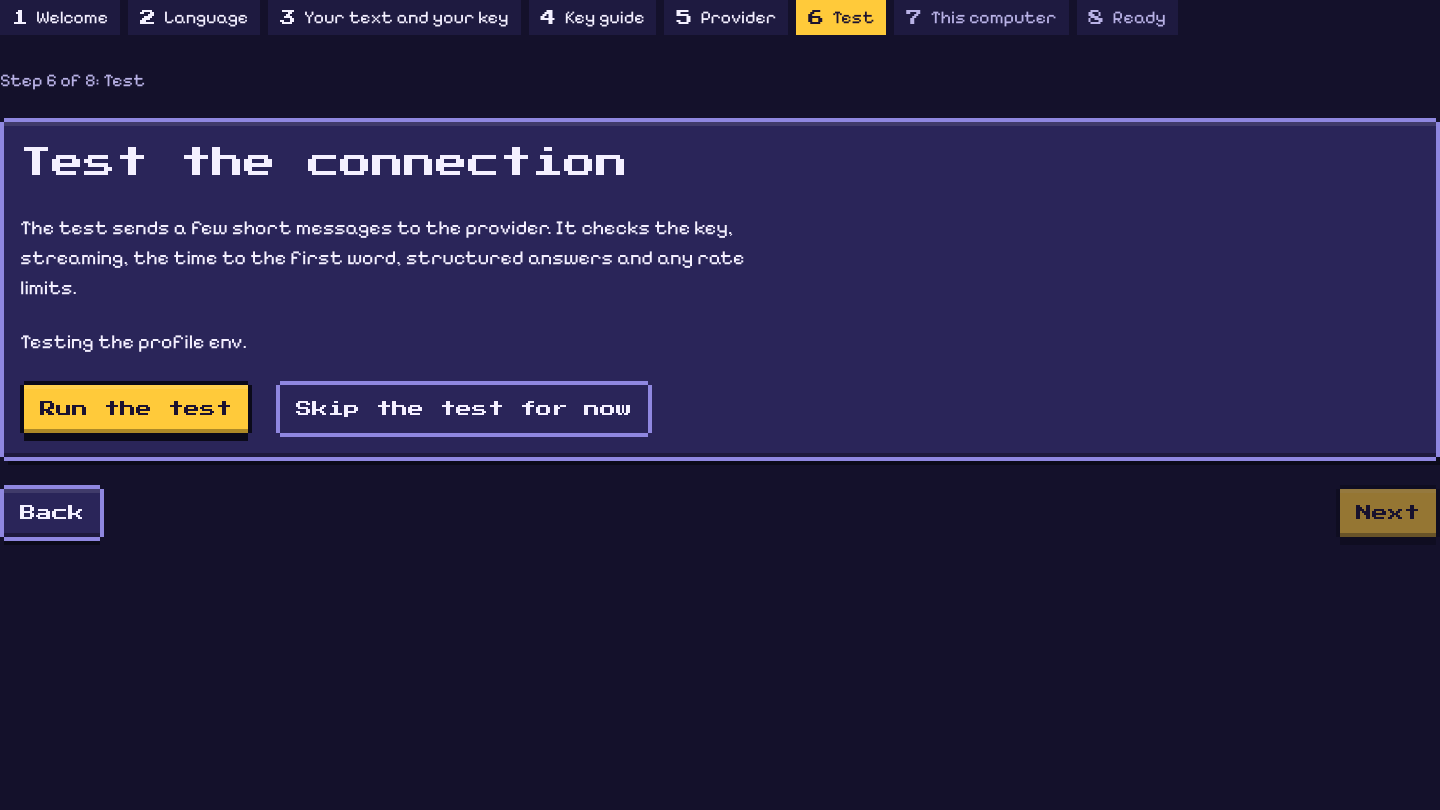
Scenario: OnboardingWizard › a wrong key in the env profile points to the .env file
Click the button "Run the test".
click(136, 409)  # box [24, 385, 248, 433]
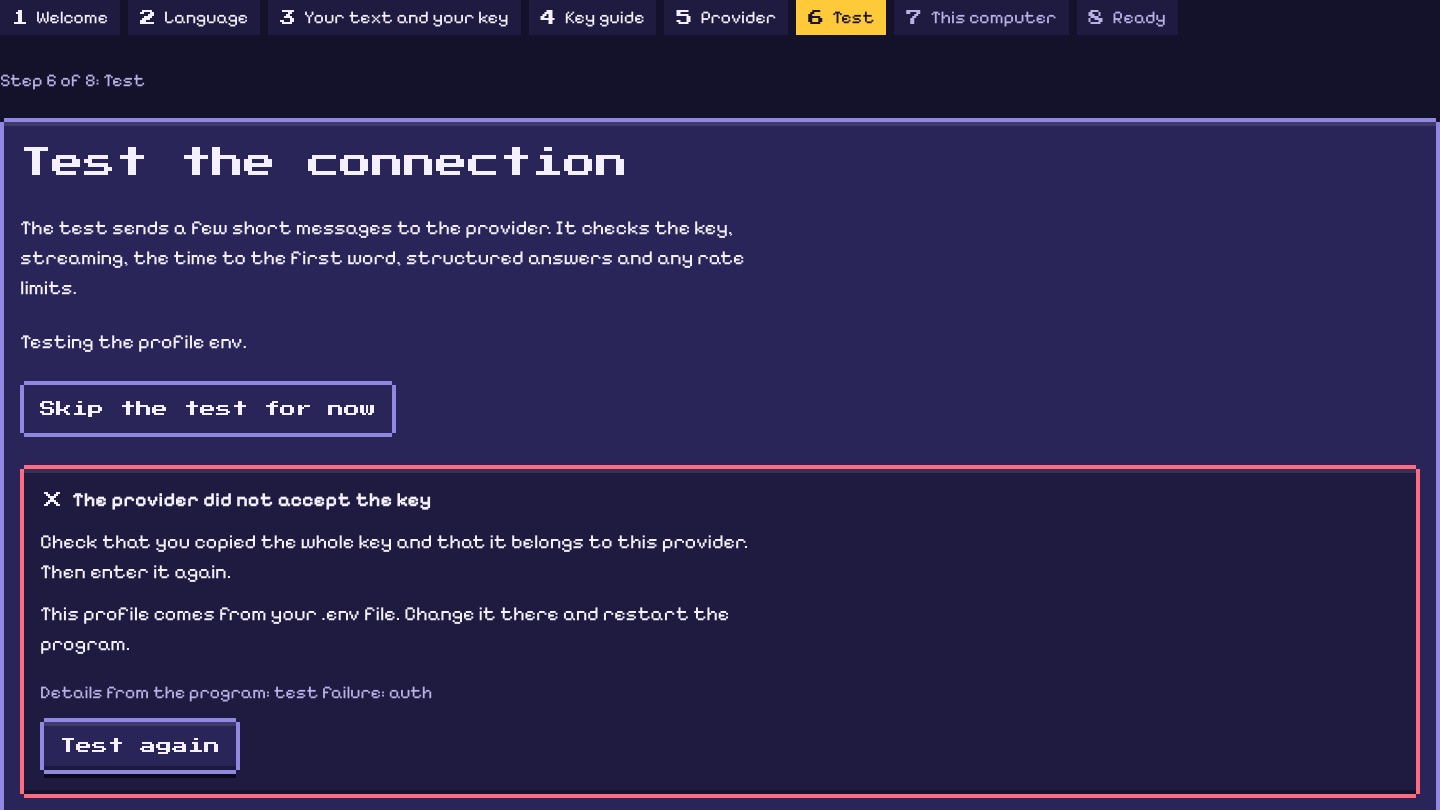
Check: the text "comes from your .env file. Change it there" is shown, box [40, 602, 729, 656]
